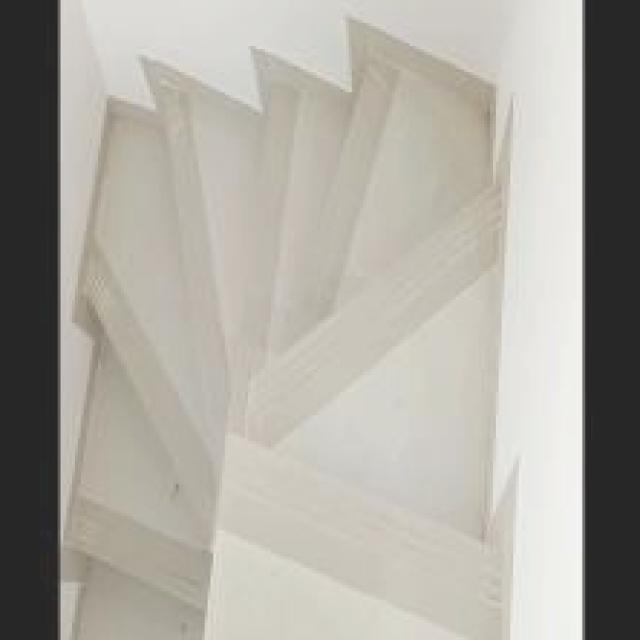downstair: (223, 93, 503, 635)
